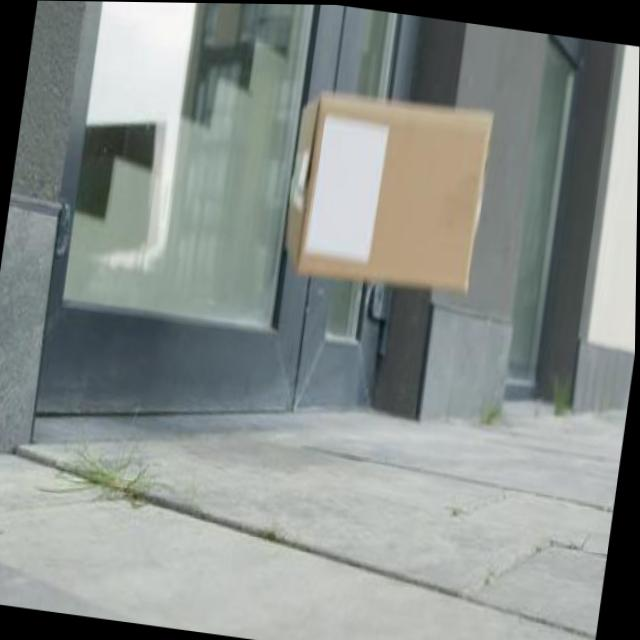box: (271, 61, 505, 337)
